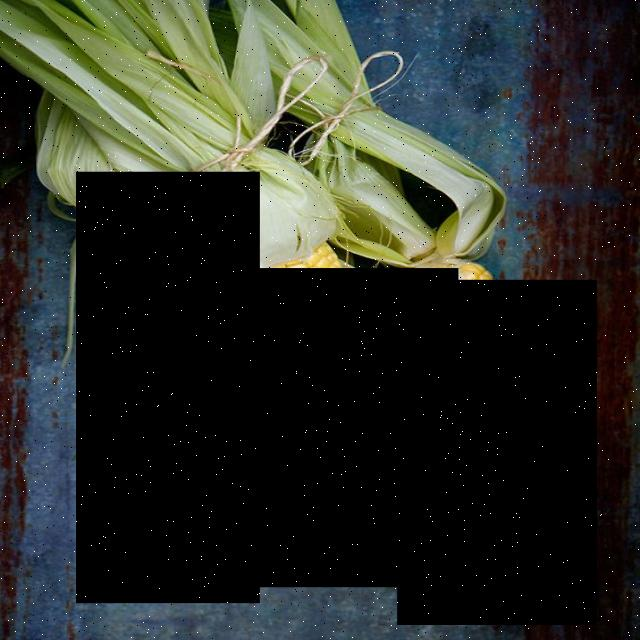Corn: (76, 172, 260, 604), (215, 268, 460, 588), (398, 280, 598, 626)
